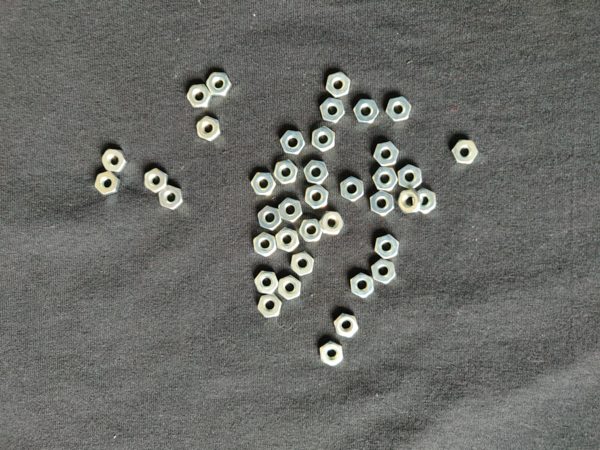nut: (374, 141, 400, 167), (370, 190, 395, 217), (353, 99, 380, 124), (326, 71, 351, 98), (386, 97, 412, 122), (373, 167, 399, 192), (280, 130, 306, 155), (274, 159, 299, 185), (452, 140, 479, 164), (398, 165, 423, 190), (320, 98, 345, 123), (304, 160, 329, 185), (258, 206, 283, 231), (159, 185, 184, 210), (305, 184, 329, 210), (291, 251, 315, 277), (278, 197, 302, 223), (251, 172, 277, 196), (253, 232, 277, 258), (313, 126, 336, 153), (206, 73, 233, 96), (375, 235, 399, 260), (399, 189, 423, 214), (372, 259, 396, 284), (334, 314, 359, 338), (319, 211, 344, 235), (278, 275, 302, 300), (258, 294, 282, 319), (187, 84, 212, 108), (197, 116, 221, 141), (102, 149, 127, 173), (95, 172, 120, 196), (351, 273, 374, 299), (341, 176, 364, 202), (321, 341, 344, 367), (145, 168, 168, 194), (276, 228, 300, 252), (254, 271, 278, 295), (300, 219, 323, 242), (418, 189, 438, 214)
